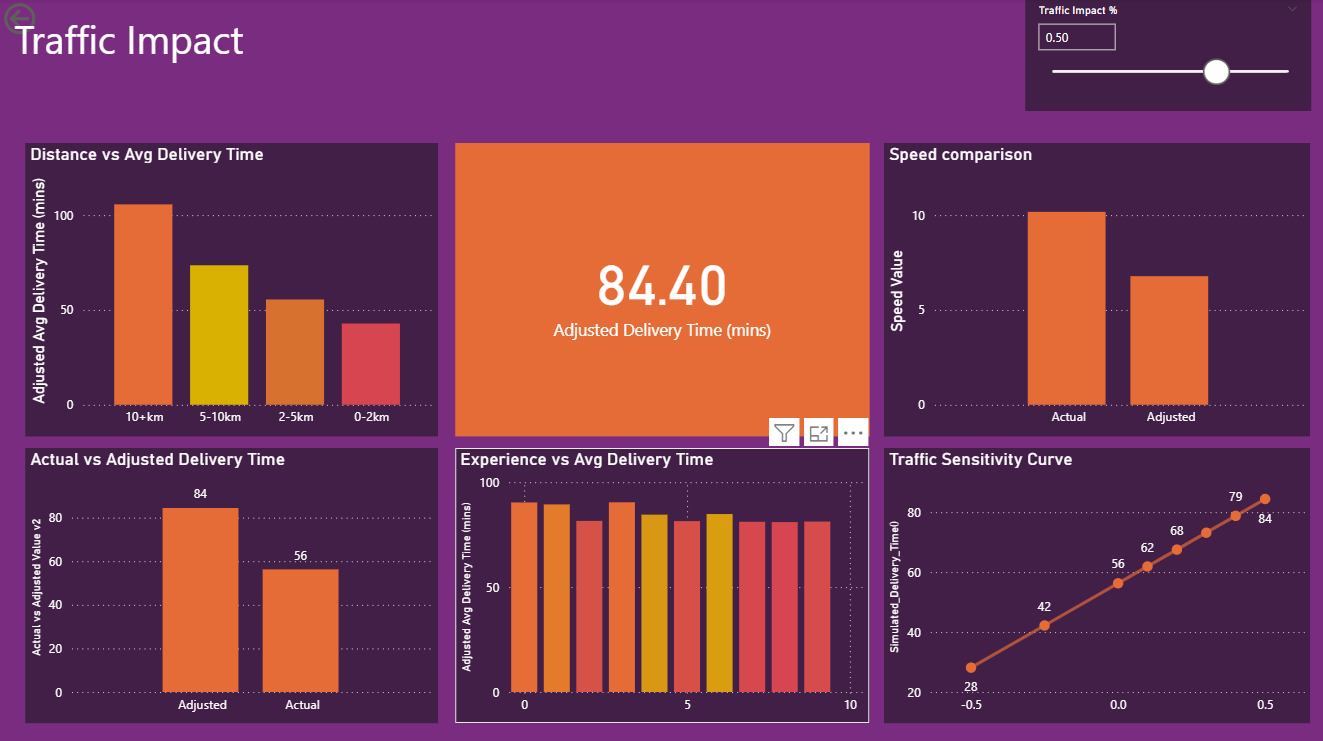

The dashboard page shown, as its layout file describes it:
{"tool":"powerbi","page":{"name":"Traffic Impact","canvas":[1280,720],"ordinal":3},"visuals":[{"type":"slicer","fields":{"Values":["Traffic Impact %.Traffic Impact %"]},"box":[990,0,275.7,108.6],"z":0},{"type":"card","fields":{"Values":["Traffic Impact %.Adjusted Delivery Time (mins)"]},"box":[440,140,400,282.9],"z":1000},{"type":"actionButton","box":[0,0,100,40],"z":2000},{"type":"lineChart","title":"Traffic Sensitivity Curve","fields":{"Category":["Traffic Simulation.Traffic level Simulation"],"Y":["Actual VS Predicted.Simulated_Delivery_Time()"]},"box":[854.3,434.3,411.4,265.7],"z":3000},{"type":"clusteredColumnChart","title":"Actual vs Adjusted Delivery Time","fields":{"Y":["Actual VS Predicted.Actual vs Adjusted Value v2"],"Category":["ComparisonTable (2).category"]},"box":[25.7,434.3,398.6,265.7],"z":4000},{"type":"clusteredColumnChart","title":"Distance vs Avg Delivery Time","fields":{"Y":["Traffic Impact %.Adjusted Avg Delivery Time (mins)"],"Category":["zepto_delivery.Distance bucket"]},"box":[25.7,140,398.6,282.9],"z":5000},{"type":"clusteredColumnChart","title":"Experience vs Avg Delivery Time","fields":{"Y":["Traffic Impact %.Adjusted Avg Delivery Time (mins)"],"Category":["zepto_delivery.courier experience yrs"]},"box":[440,434.3,400,265.7],"z":6000},{"type":"clusteredColumnChart","title":"Speed comparison","fields":{"Y":["Actual VS Predicted.Speed Value"],"Category":["Speed Comparison.Label"]},"box":[854.3,140,411.4,282.9],"z":7000},{"type":"textbox","box":[10,10,345.7,117.1],"z":8000}]}

Visuals, with their boxes in screenshot pixels (x1, y1, x2, y2), scaled from the page's 1280x720 canvas onto the 1323x741 screenshot:
slicer - Traffic Impact %.Traffic Impact %: bbox=(1023, 0, 1308, 112)
card - Traffic Impact %.Adjusted Delivery Time (mins): bbox=(455, 144, 868, 435)
actionButton: bbox=(0, 0, 103, 41)
"Traffic Sensitivity Curve" lineChart: bbox=(883, 447, 1308, 720)
"Actual vs Adjusted Delivery Time" clusteredColumnChart: bbox=(27, 447, 439, 720)
"Distance vs Avg Delivery Time" clusteredColumnChart: bbox=(27, 144, 439, 435)
"Experience vs Avg Delivery Time" clusteredColumnChart: bbox=(455, 447, 868, 720)
"Speed comparison" clusteredColumnChart: bbox=(883, 144, 1308, 435)
textbox: bbox=(10, 10, 368, 131)
